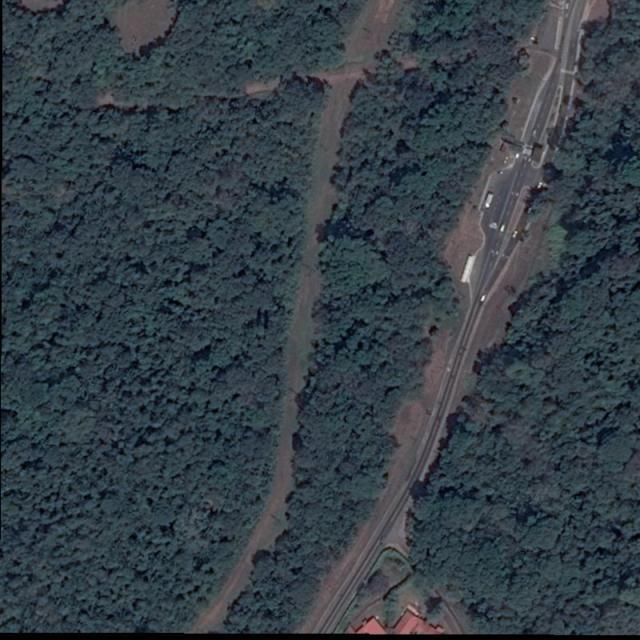vehicle: (484, 193, 494, 208)
